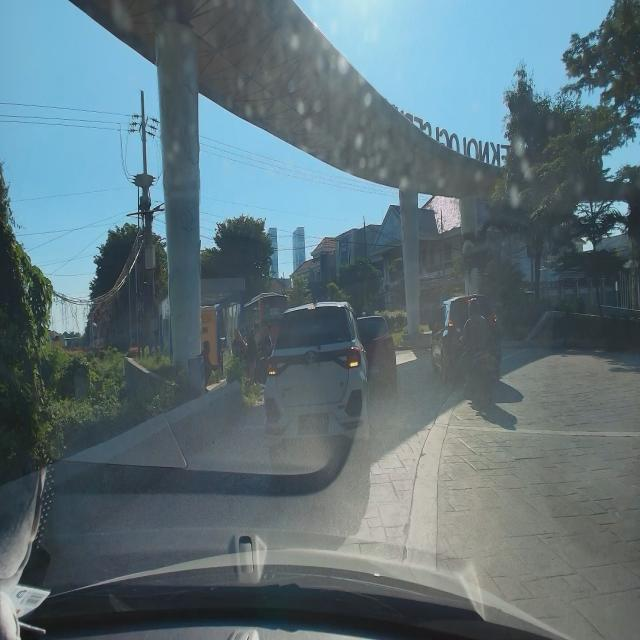car: (264, 296, 368, 472), (429, 292, 504, 381)
